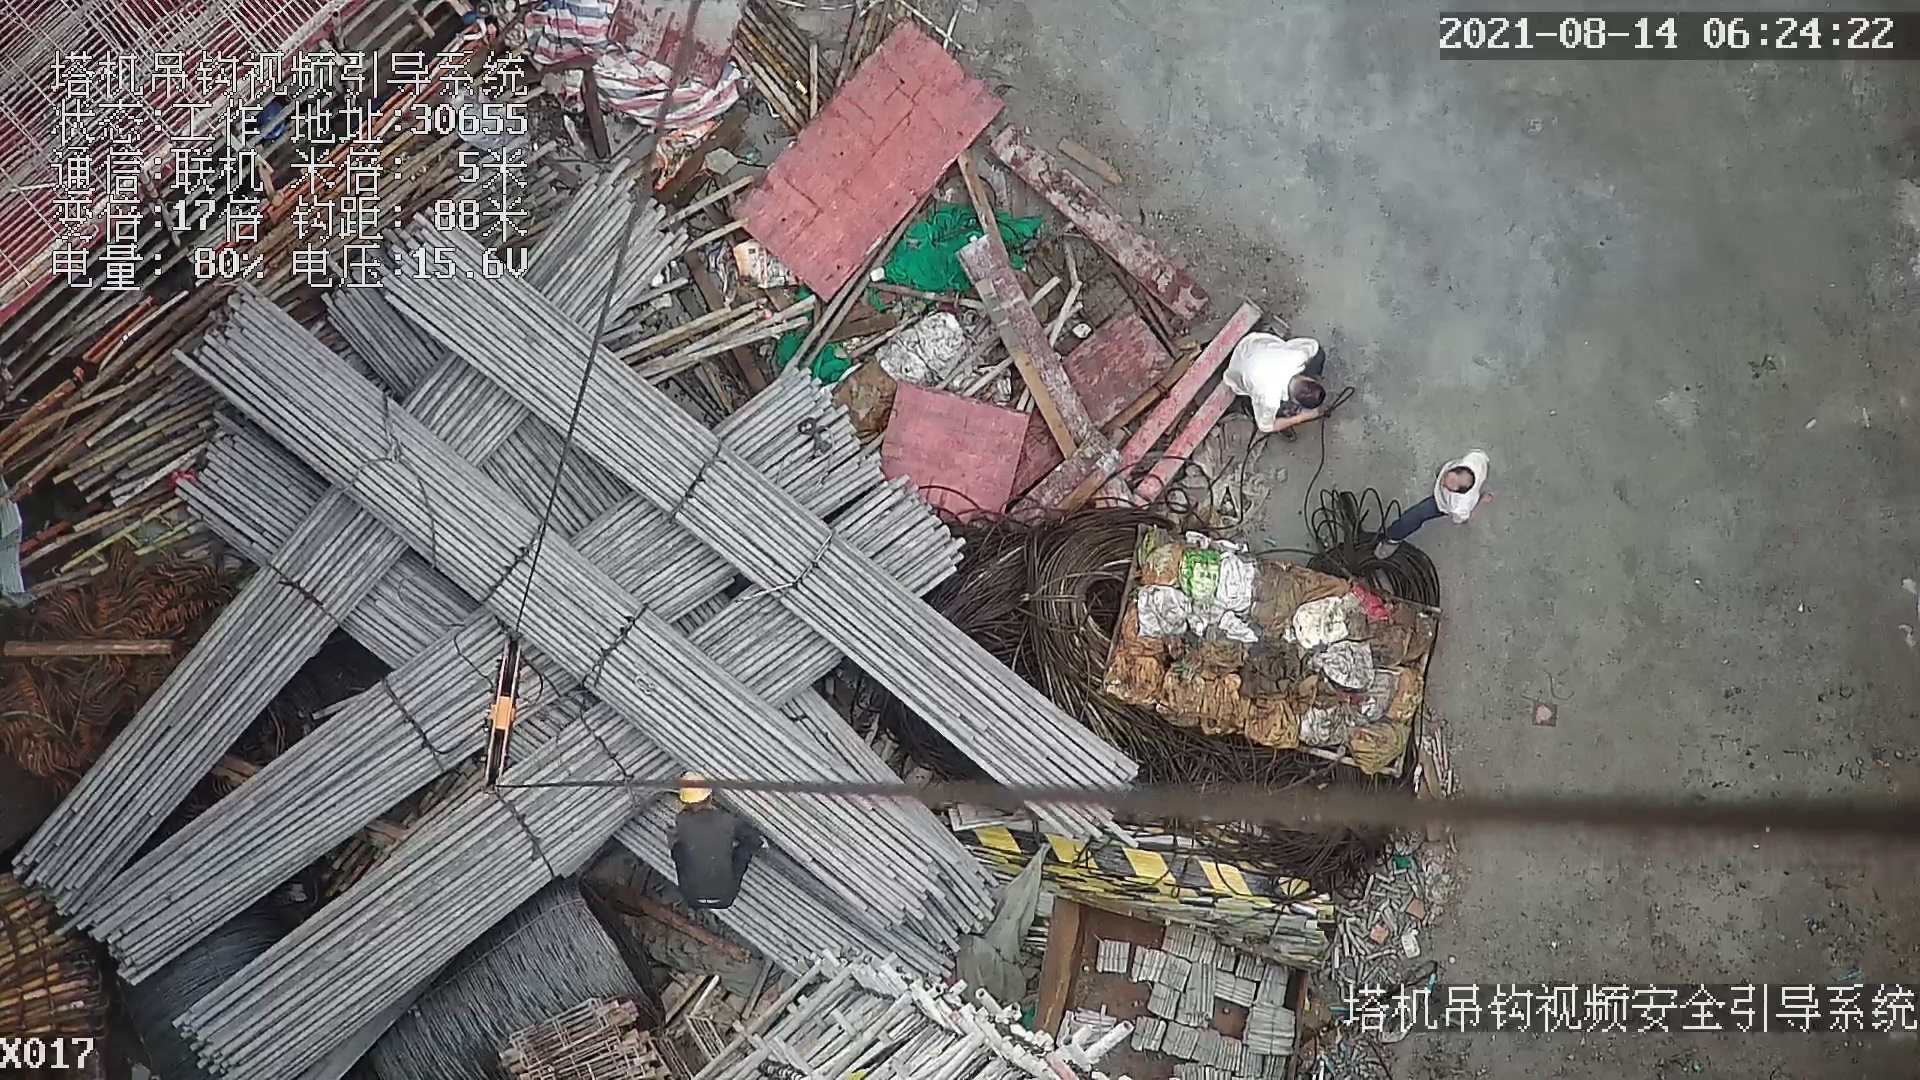helmet: (678, 771, 710, 803)
hook: (481, 626, 544, 794)
person: (1369, 442, 1503, 568), (659, 772, 770, 909), (1231, 326, 1336, 435)
rebar: (189, 296, 951, 929), (388, 284, 1142, 850), (171, 704, 685, 1080), (77, 614, 581, 984), (17, 483, 406, 911)
wood: (1, 868, 112, 1035)
